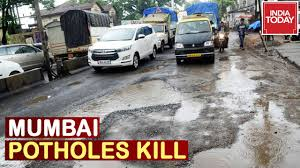pothole: (111, 75, 218, 124), (222, 103, 300, 158), (223, 55, 293, 100), (190, 140, 220, 165), (27, 93, 54, 106), (65, 78, 83, 87)
